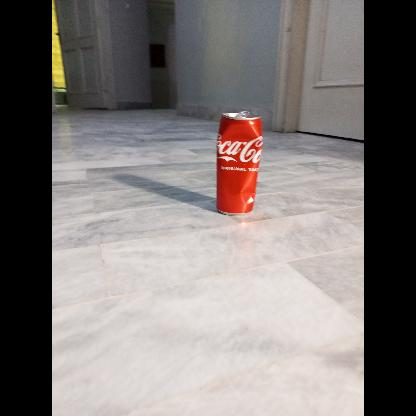Dent_Can: (217, 121, 262, 160), (240, 183, 256, 211)
Lid_Open: (232, 108, 250, 121)
Tin_Can: (210, 110, 263, 218)
